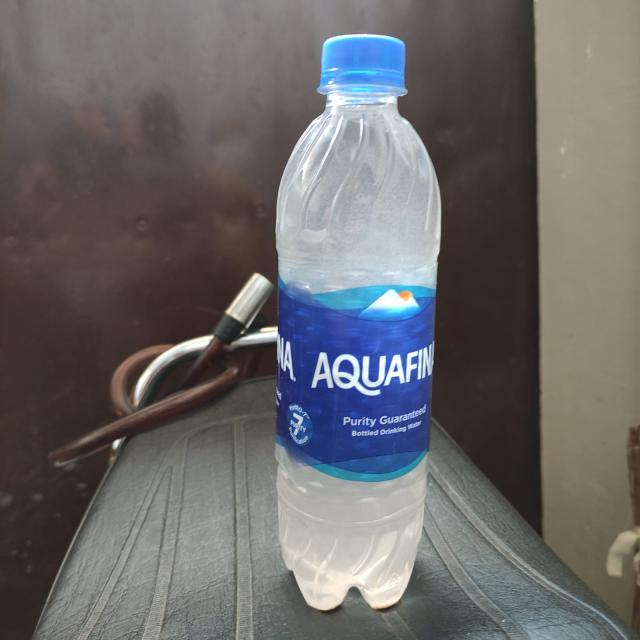bottle: (270, 22, 443, 608)
cap: (320, 34, 406, 97)
label: (212, 262, 383, 467)
